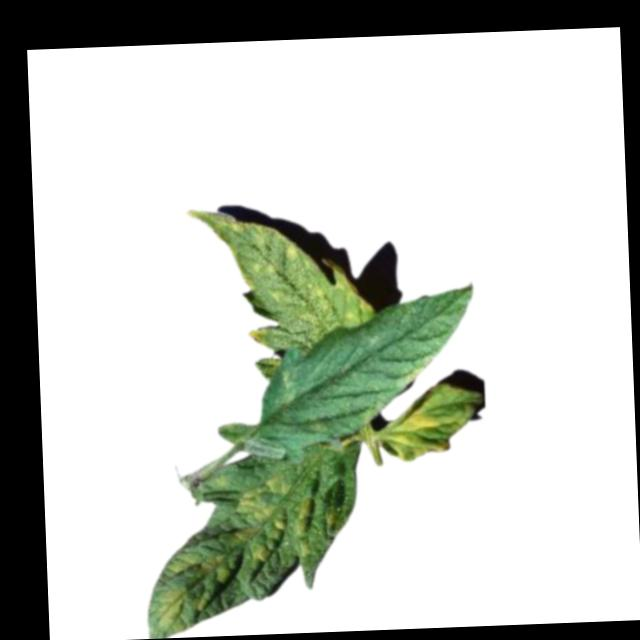Leaf_Mold: (183, 202, 374, 353), (142, 475, 313, 638), (380, 385, 449, 463), (273, 366, 301, 405)
